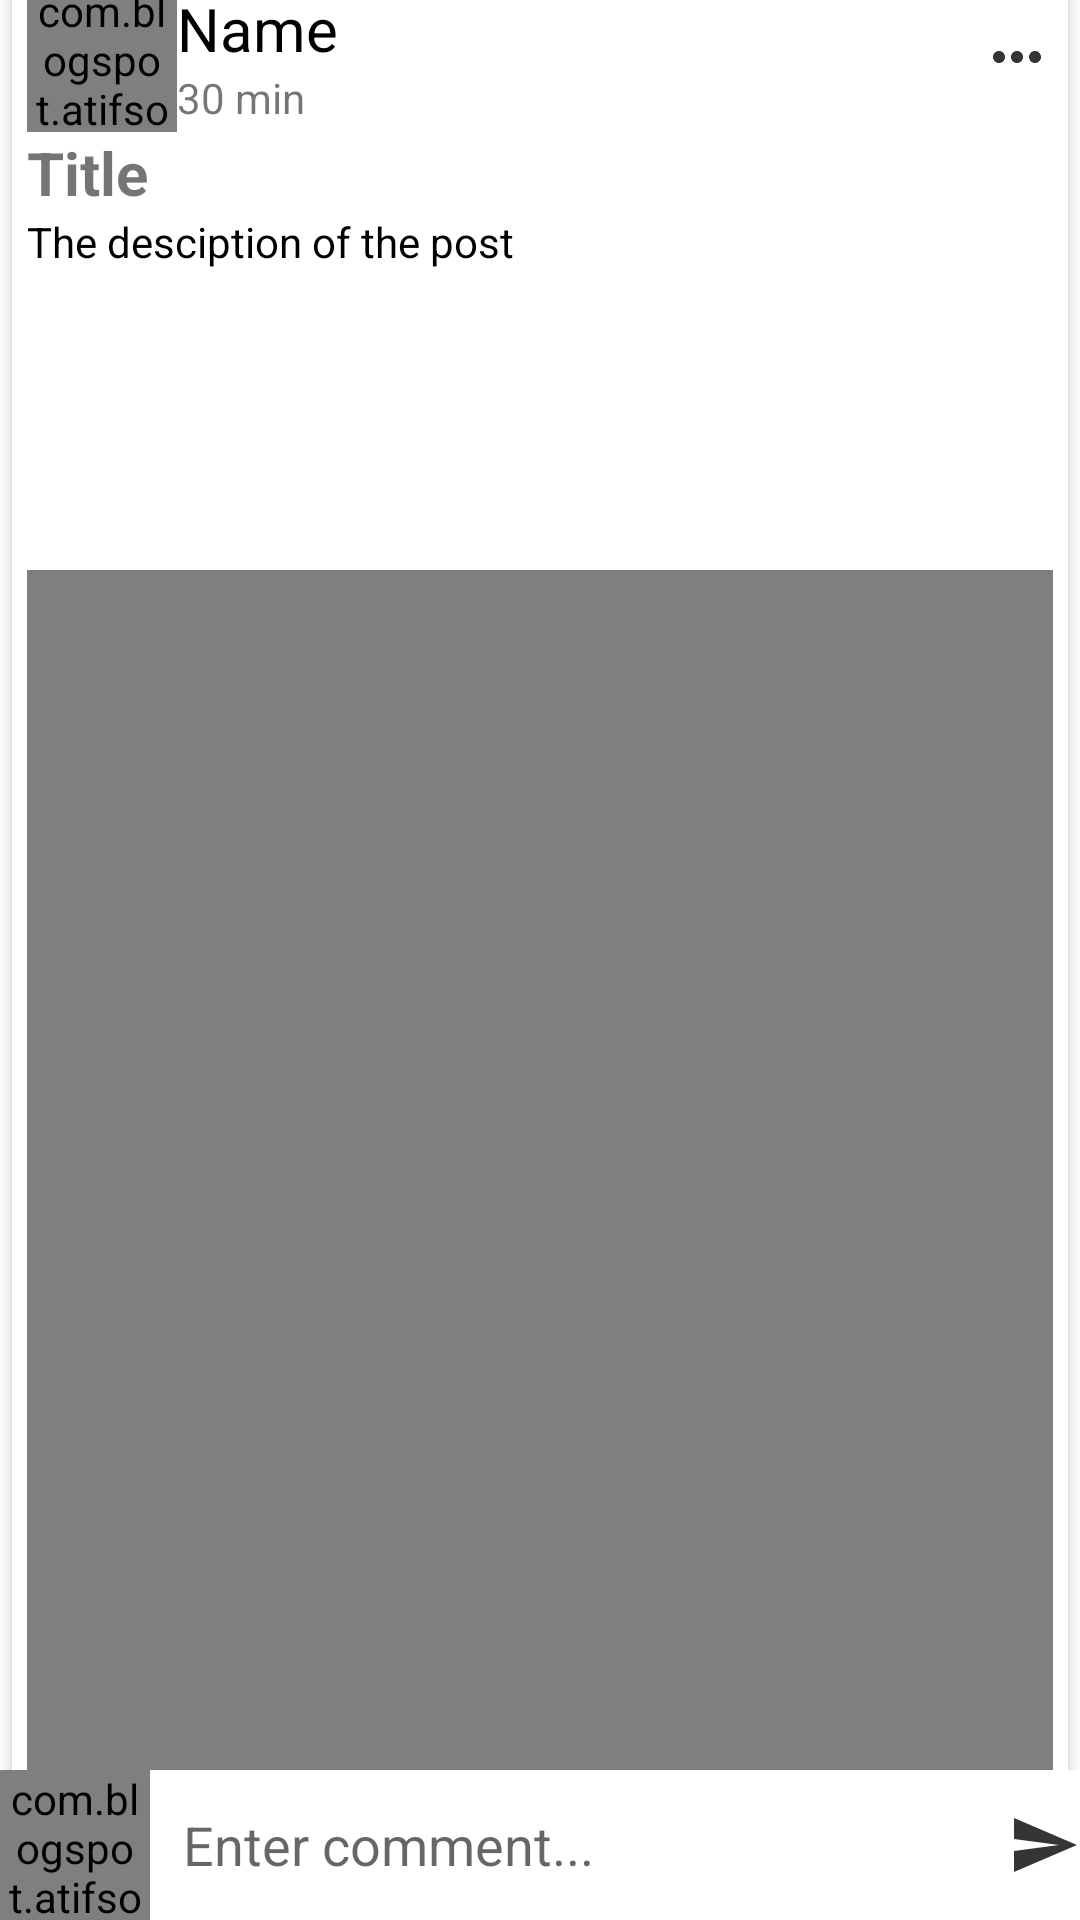

Where icons sit on this 1080 x 1920 app screen, as (x1, y1, x2, y2):
more options: (993, 51, 1041, 63)
send: (1014, 1818, 1077, 1872)
